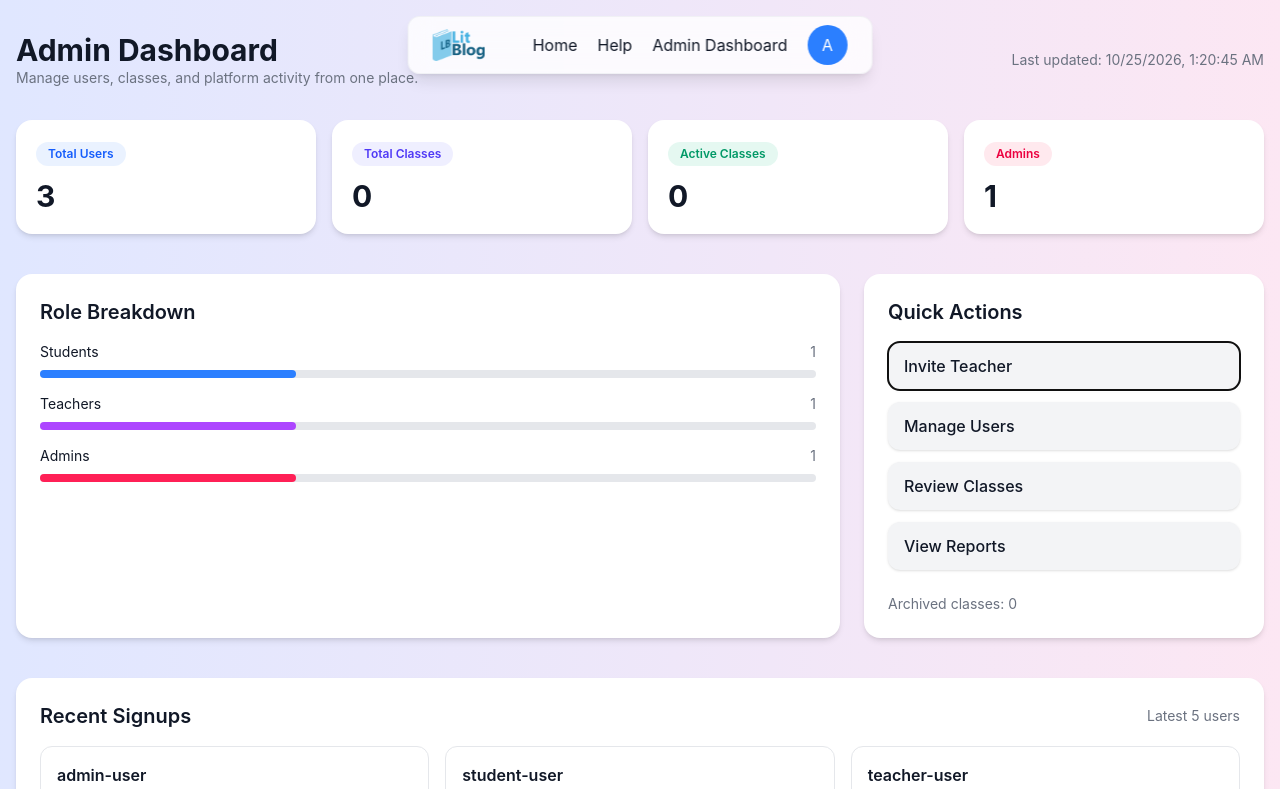
administrator teacher invitations › shows safe, recoverable errors for status 400
Click the button "Invite Teacher".
click(958, 366)  # box [888, 342, 1240, 390]
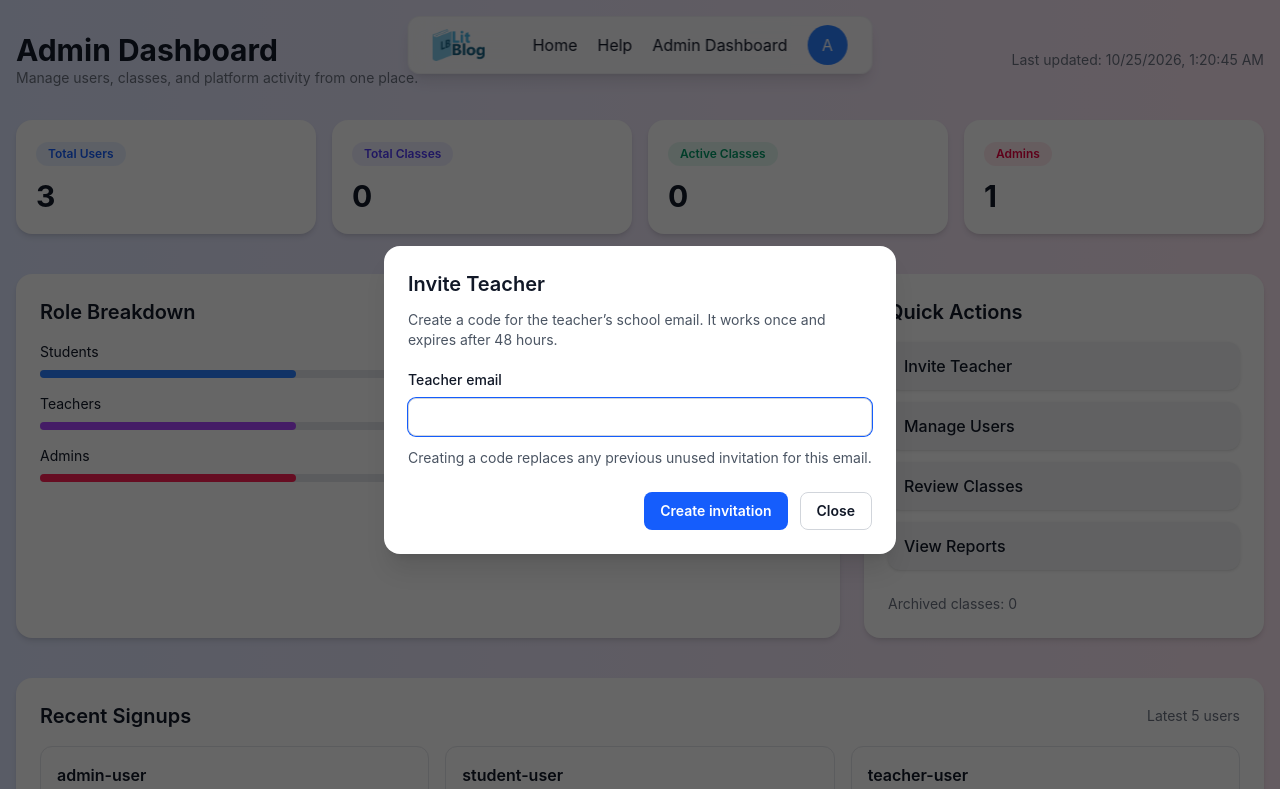
Type "new.teacher@school.edu" into the field labelled "Teacher email".
click(640, 417); type("new.teacher@school.edu")  # box [408, 398, 872, 436]
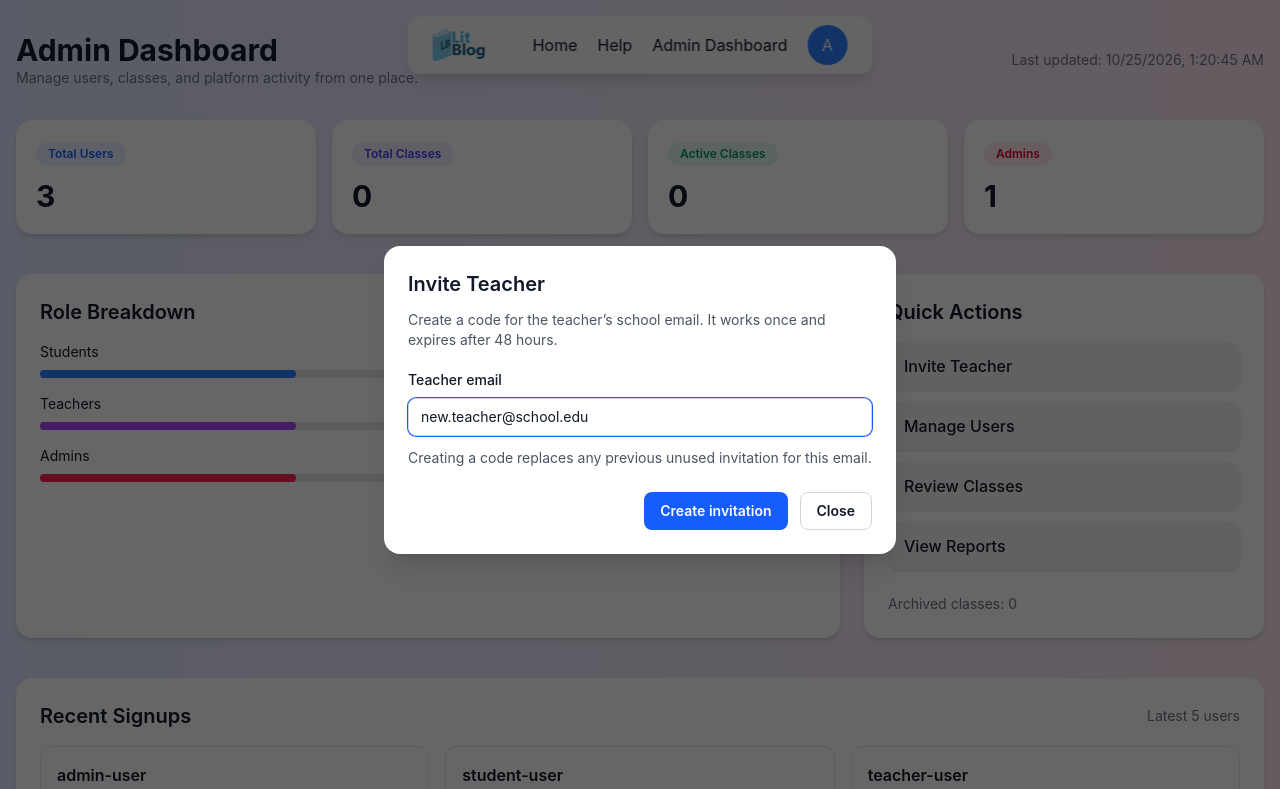
Click the button "Create invitation".
click(716, 511)  # box [644, 492, 788, 530]
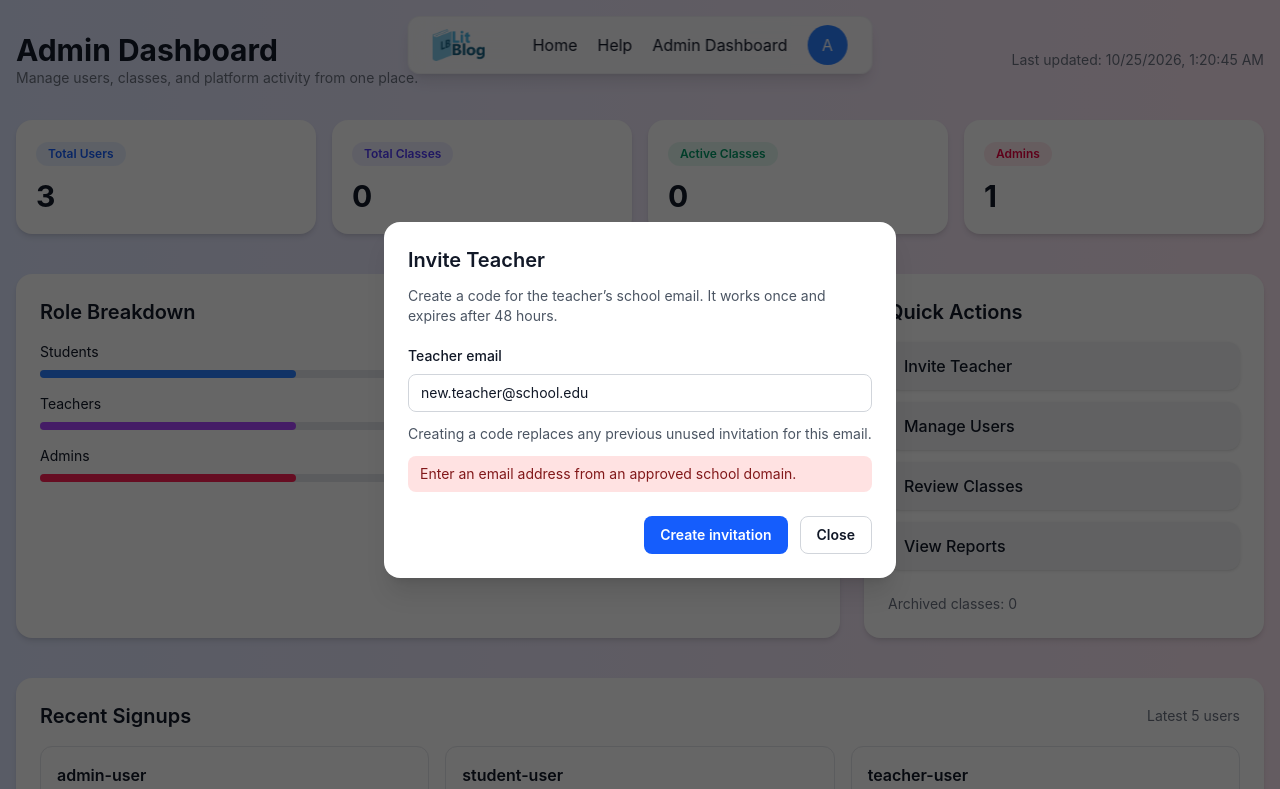
Now the button "Create invitation" is enabled, box [644, 516, 788, 554]
Now the message reads "Enter an email address from an approved school domain.", box [420, 465, 796, 482]
